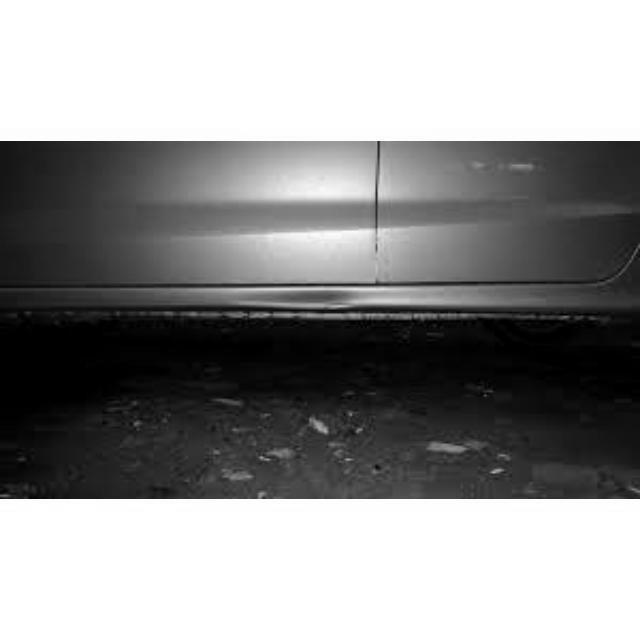Runningboard-Damage: (1, 267, 636, 331)
